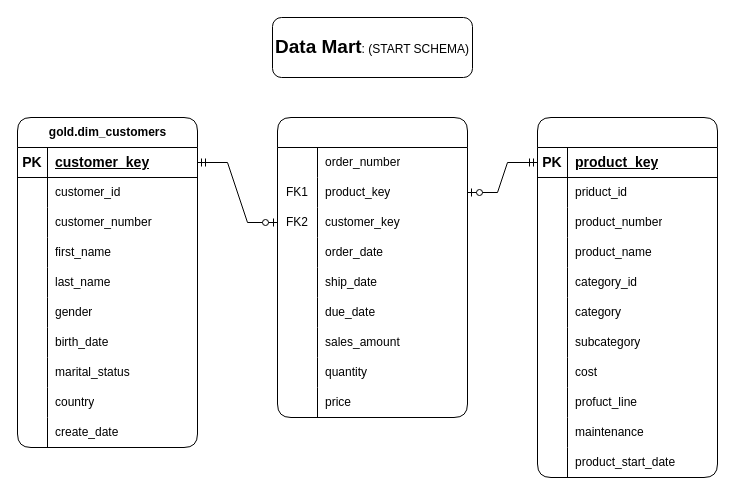
Some shapes in this 735 by 495 pixel diagram are drawn without their labels. The box of each missing label's shape, as (x1, y1, x2, y2) in pixels:
gold.dim_products: (536, 116, 718, 478)
gold.fact_sales: (276, 116, 468, 418)
